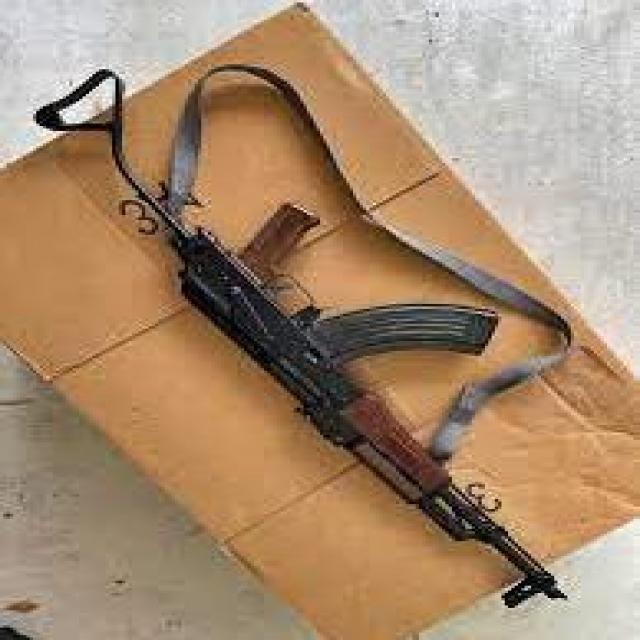weapon: (32, 67, 570, 608)
